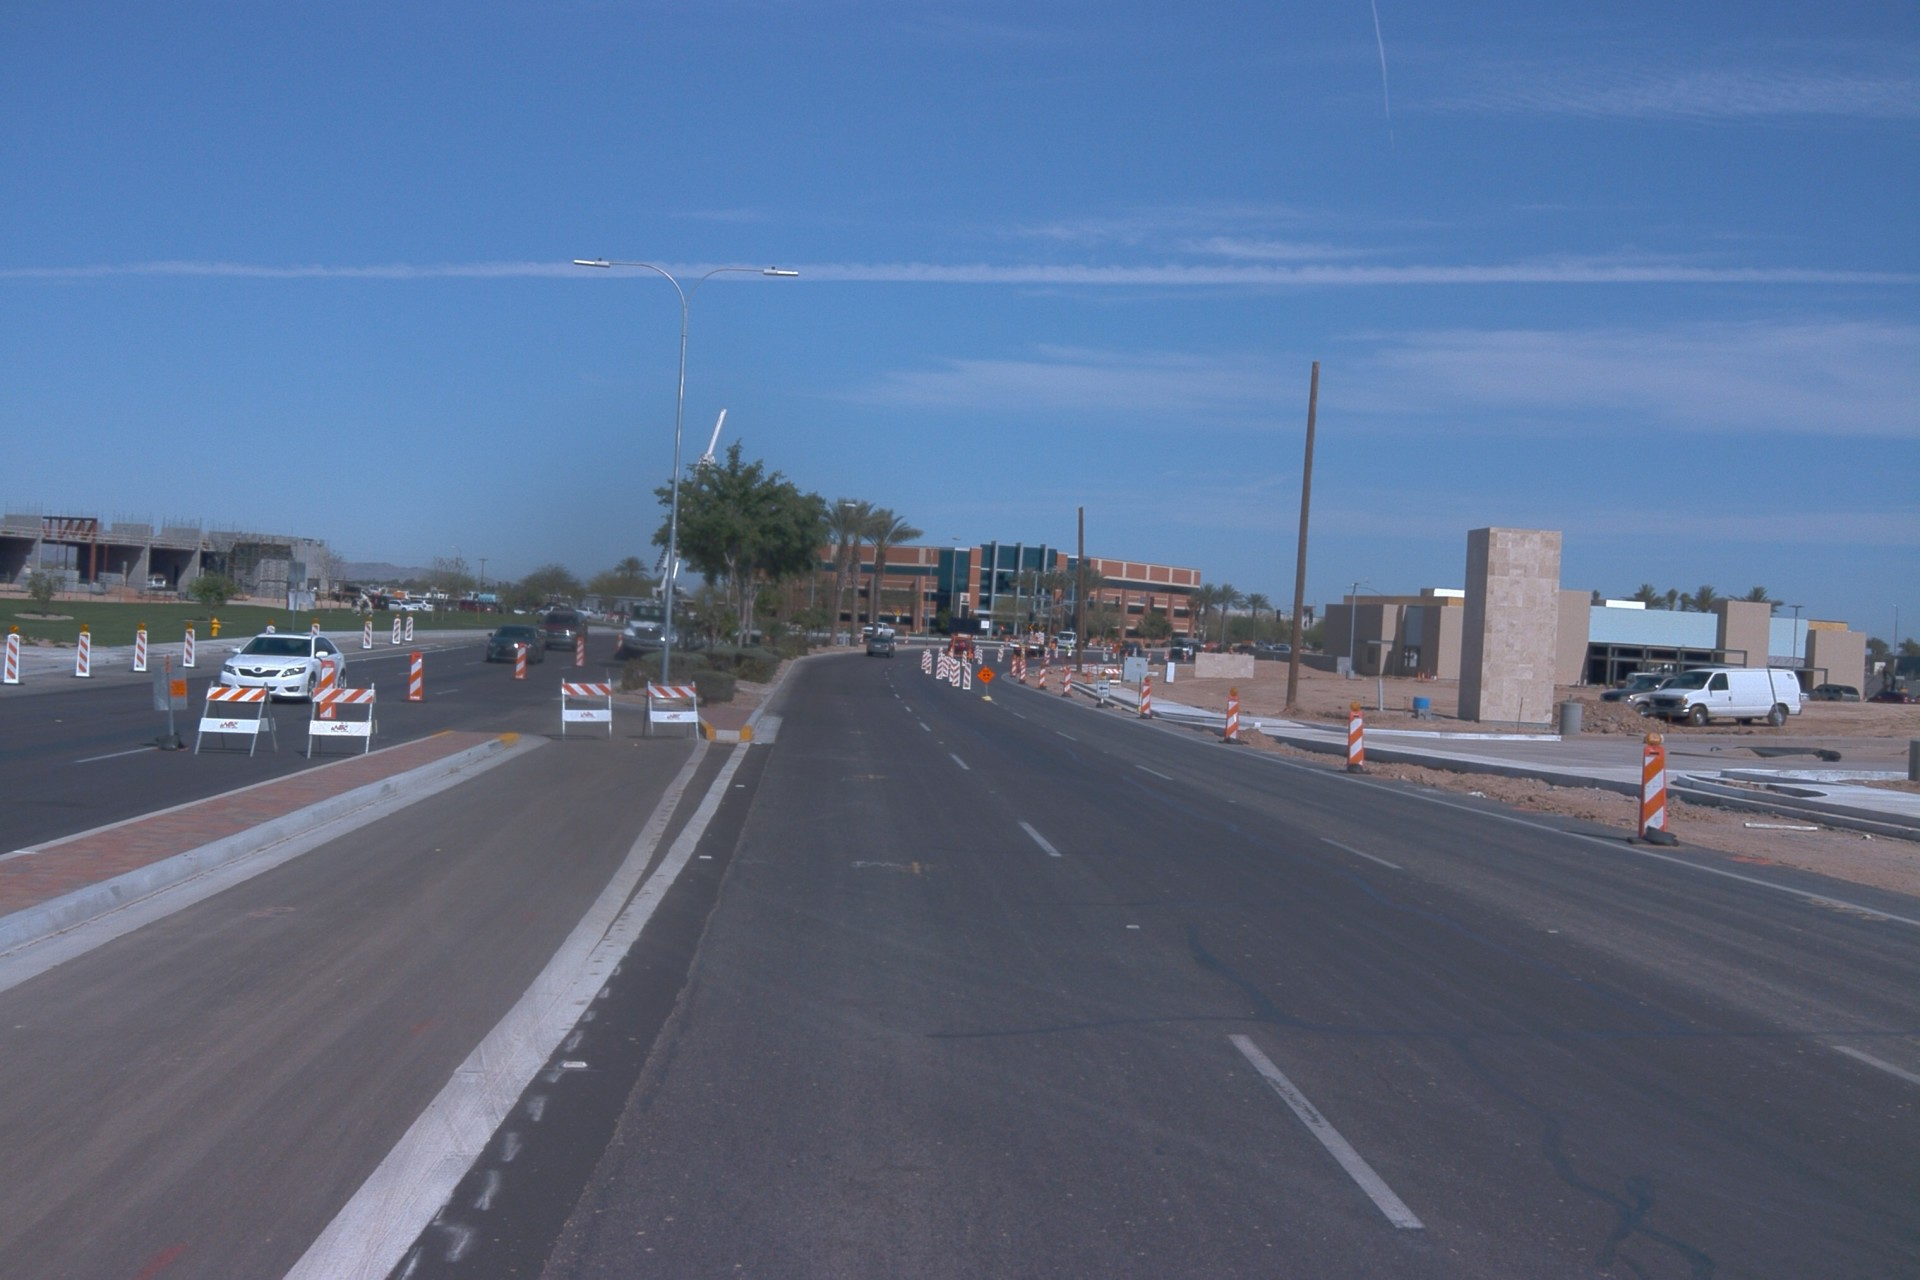TYPE_PEDESTRIAN: (1065, 643, 1073, 660)
TYPE_VEHICLE: (608, 404, 739, 667), (1648, 669, 1804, 730), (217, 630, 346, 703), (1598, 674, 1676, 719), (535, 607, 593, 657), (939, 613, 984, 671), (483, 624, 543, 665), (1010, 627, 1054, 659), (1164, 639, 1213, 663), (1805, 683, 1861, 703), (1049, 629, 1097, 652), (860, 620, 898, 645), (331, 584, 371, 607), (454, 598, 499, 618), (1864, 690, 1920, 705), (1622, 669, 1654, 694), (350, 595, 391, 614), (435, 594, 465, 617), (865, 638, 896, 659), (1886, 692, 1920, 711), (387, 598, 419, 614), (406, 597, 434, 614), (146, 570, 166, 593), (950, 638, 969, 656), (1798, 692, 1812, 703), (1269, 647, 1290, 654)
